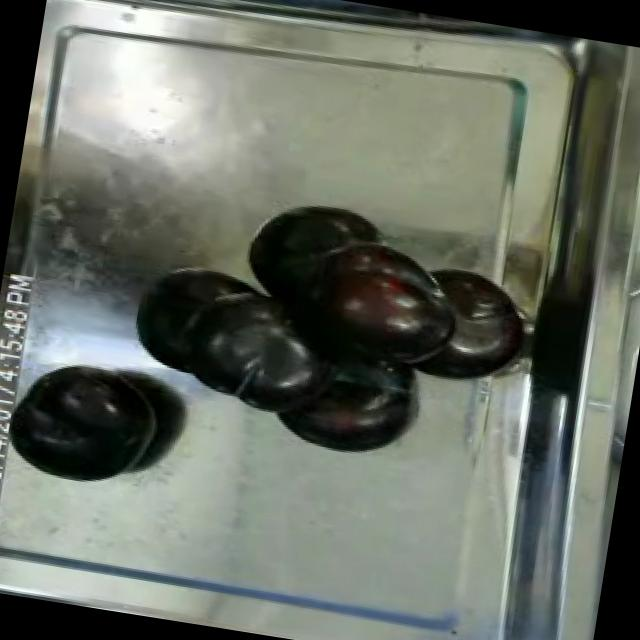Fruit: (0, 345, 179, 497), (304, 226, 472, 370)
